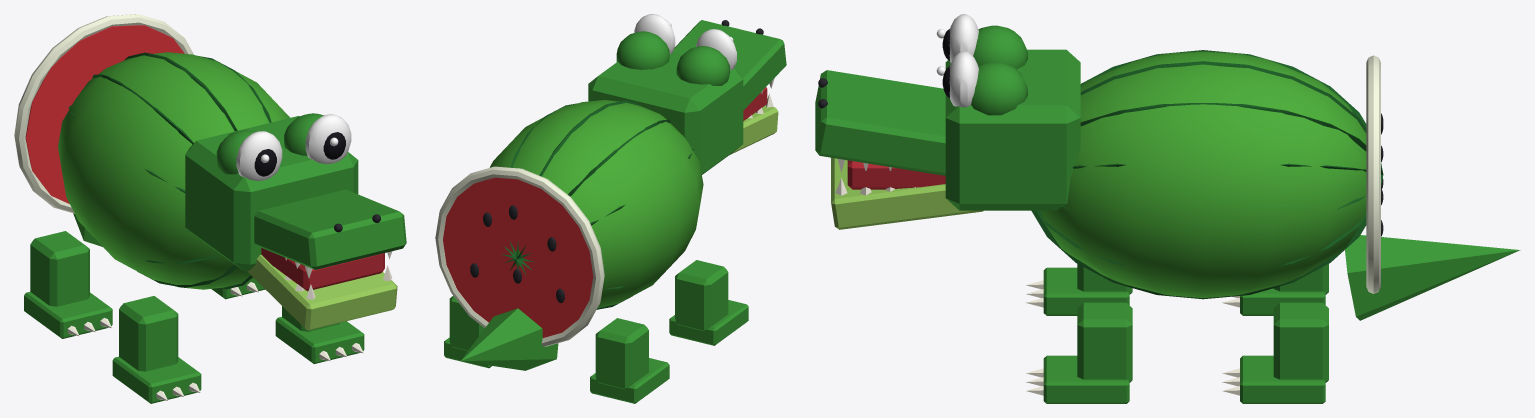
File: Glorbo.fbx
The picture shows the model from 3 angles, left to right: view 1: azimuth 30°, elevation 25°; view 2: azimuth 150°, elevation 25°; view 3: azimuth 270°, elevation 25°; orthographic projection. The views are drawn at different scales.
Parts seen in each view (by area): view 1: Glorbo_Melancia, Glorbo_Cabeca, Glorbo_Focinho, Glorbo_Corte, Glorbo_Mandibula, Glorbo_Corte_Borda, Glorbo_Perna, Glorbo_Perna_3, Glorbo_Pe, Glorbo_Pe_2, Glorbo_Pe_3, Glorbo_Dentro_Boca (+10 smaller); view 2: Glorbo_Melancia, Glorbo_Corte, Glorbo_Cabeca, Glorbo_Corte_Borda, Glorbo_Rabo, Glorbo_Focinho, Glorbo_Perna, Glorbo_Perna_3, Glorbo_Calombo, Glorbo_Calombo_2, Glorbo_Pe, Glorbo_Pe_3 (+9 smaller); view 3: Glorbo_Melancia, Glorbo_Cabeca, Glorbo_Focinho, Glorbo_Rabo, Glorbo_Mandibula, Glorbo_Perna_2, Glorbo_Perna_4, Glorbo_Corte_Borda, Glorbo_Pe_2, Glorbo_Pe_4, Glorbo_Calombo_2, Glorbo_Pe (+10 smaller).
Boxes of the visible parts, x1,y1,x2,y2 form: Glorbo_Melancia: (58,52,289,289); Glorbo_Cabeca: (185,116,358,271); Glorbo_Focinho: (254,189,406,269); Glorbo_Corte: (25,25,184,203); Glorbo_Mandibula: (247,254,397,330); Glorbo_Corte_Borda: (14,14,193,213); Glorbo_Perna: (119,296,178,371); Glorbo_Perna_3: (30,231,89,306); Glorbo_Pe: (112,356,201,403); Glorbo_Pe_2: (275,317,364,363); Glorbo_Pe_3: (24,292,112,338); Glorbo_Dentro_Boca: (261,248,384,291); Glorbo_Melancia: (490,100,703,309); Glorbo_Corte: (443,177,593,337); Glorbo_Cabeca: (588,52,743,174); Glorbo_Corte_Borda: (435,166,604,346); Glorbo_Rabo: (461,308,558,370); Glorbo_Focinho: (673,20,786,110); Glorbo_Perna: (675,260,728,331); Glorbo_Perna_3: (595,318,648,389); Glorbo_Calombo: (676,46,729,85); Glorbo_Calombo_2: (616,31,669,69); Glorbo_Pe: (669,300,748,345); Glorbo_Pe_3: (590,358,669,403); Glorbo_Melancia: (1039,51,1366,297); Glorbo_Cabeca: (945,49,1080,210); Glorbo_Focinho: (815,70,945,175); Glorbo_Rabo: (1345,235,1520,320); Glorbo_Mandibula: (831,157,983,229); Glorbo_Perna_2: (1077,302,1132,382); Glorbo_Perna_4: (1273,302,1328,382); Glorbo_Corte_Borda: (1366,55,1380,293); Glorbo_Pe_2: (1043,355,1129,403); Glorbo_Pe_4: (1240,355,1325,403); Glorbo_Calombo_2: (971,62,1027,115); Glorbo_Pe: (1043,267,1129,315).
Size of the model in its own units: 63 by 78.61 by 161.
